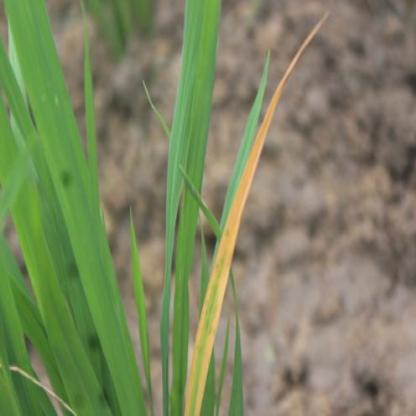Tungro: (190, 66, 279, 416)
